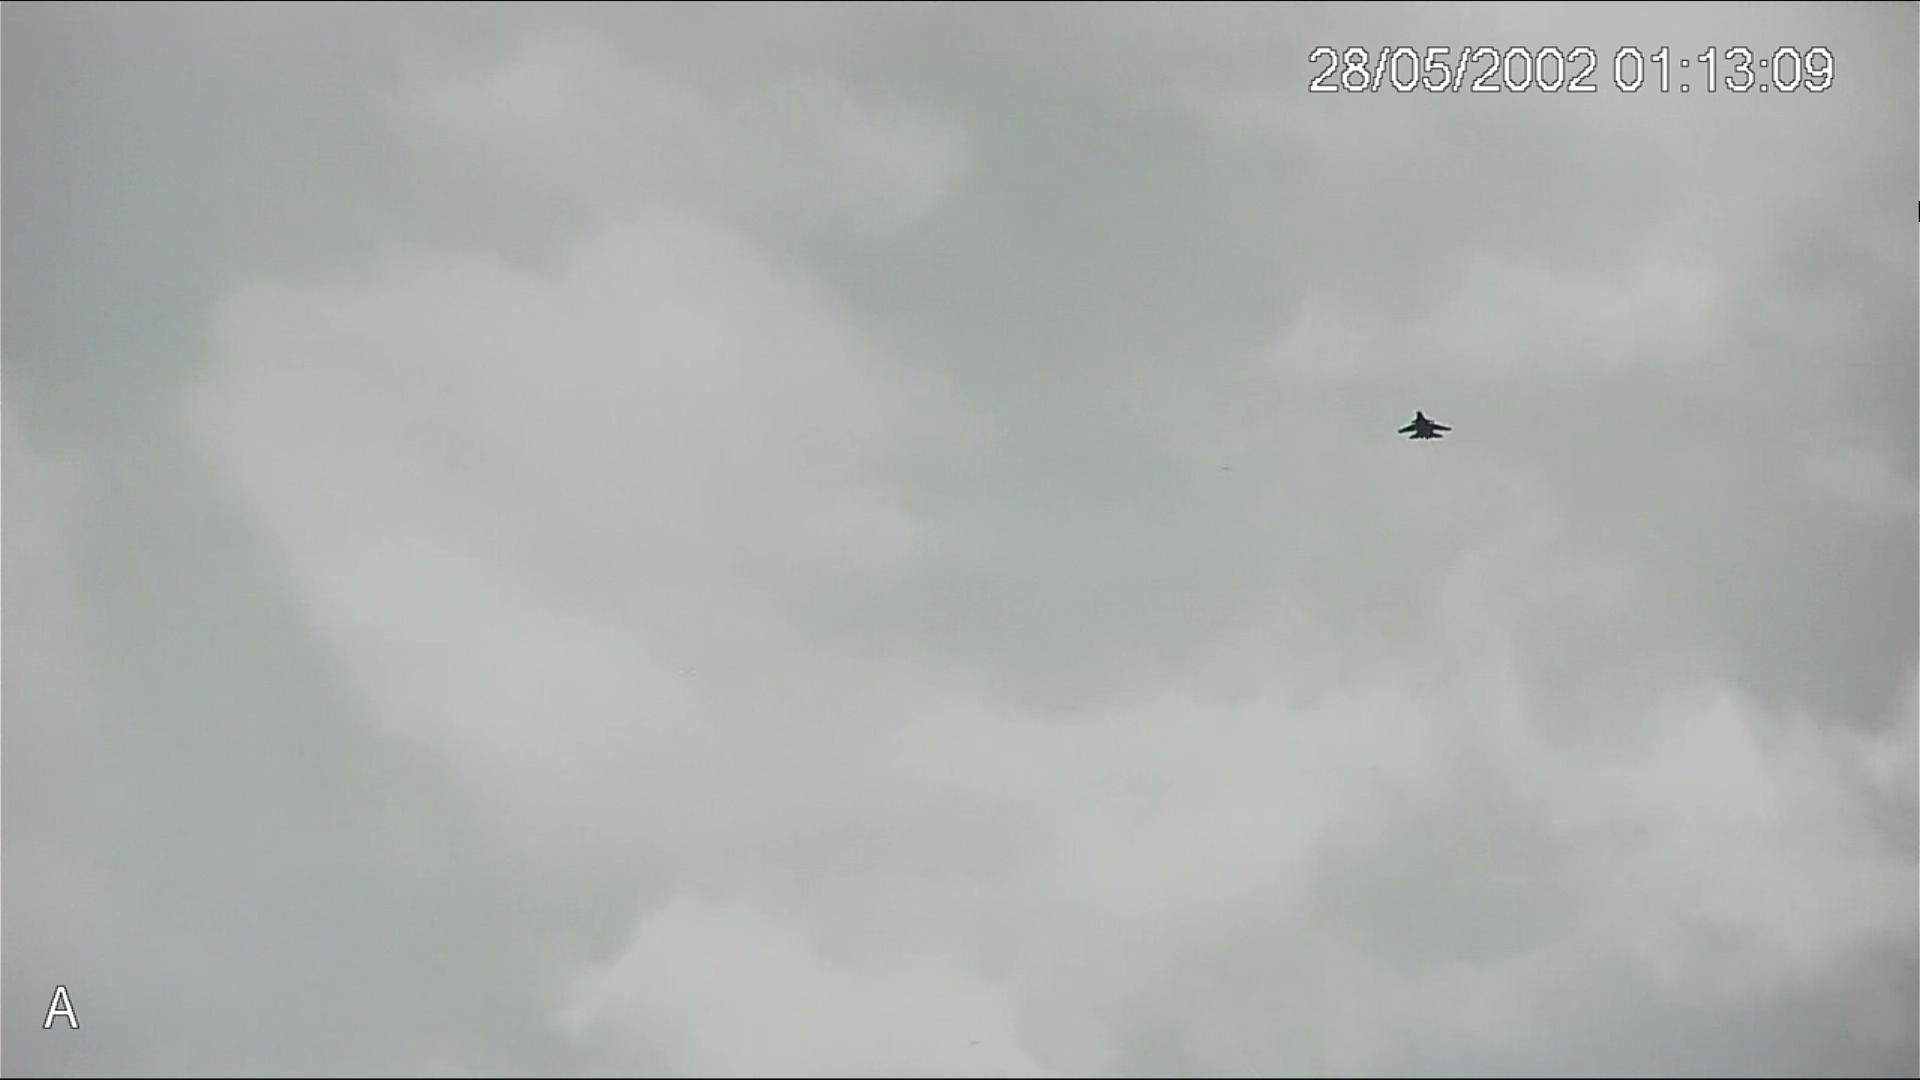SU_30: (1396, 407, 1452, 446)
